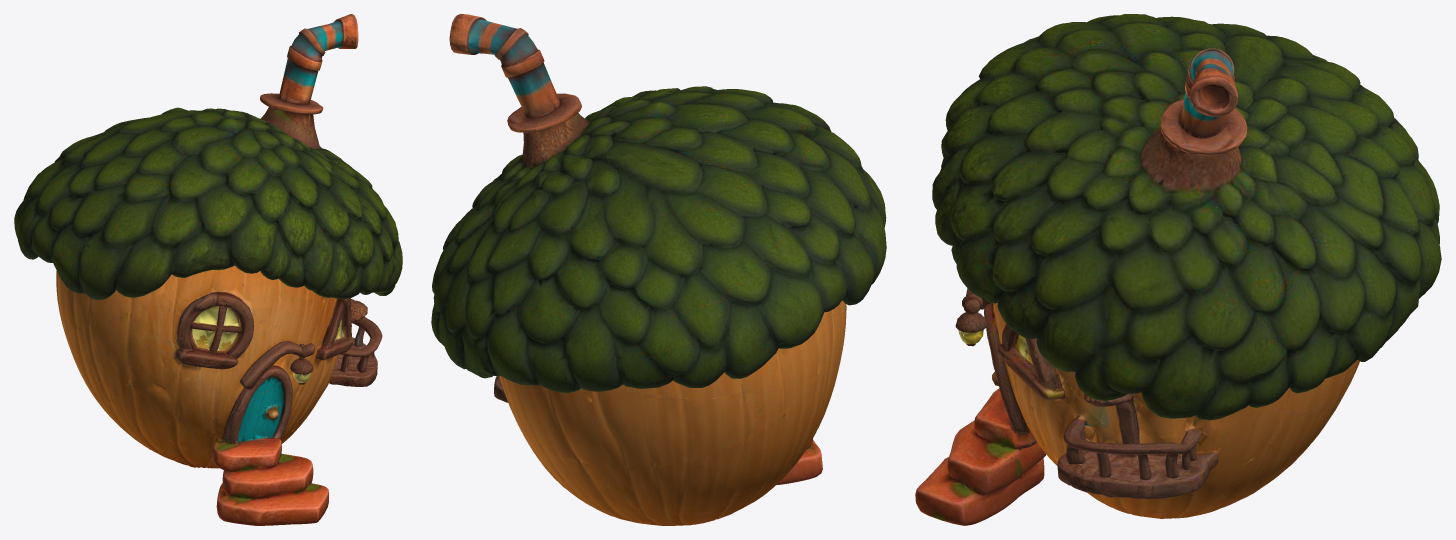
File: acorn-cottage.glb
The picture shows the model from 3 angles, left to right: view 1: azimuth 30°, elevation 25°; view 2: azimuth 150°, elevation 25°; view 3: azimuth 270°, elevation 25°; orthographic projection. The views are drawn at different scales.
Visible parts, largest first — view 1: Mesh_0; view 2: Mesh_0; view 3: Mesh_0.
Boxes of the visible parts, x1,y1,x2,y2 form: Mesh_0: [14, 14, 402, 525]; Mesh_0: [431, 14, 886, 525]; Mesh_0: [915, 14, 1441, 525].
Size of the model in its own units: 1.66 by 1.9 by 1.71.
Materials: 1 (1 with a texture image).
